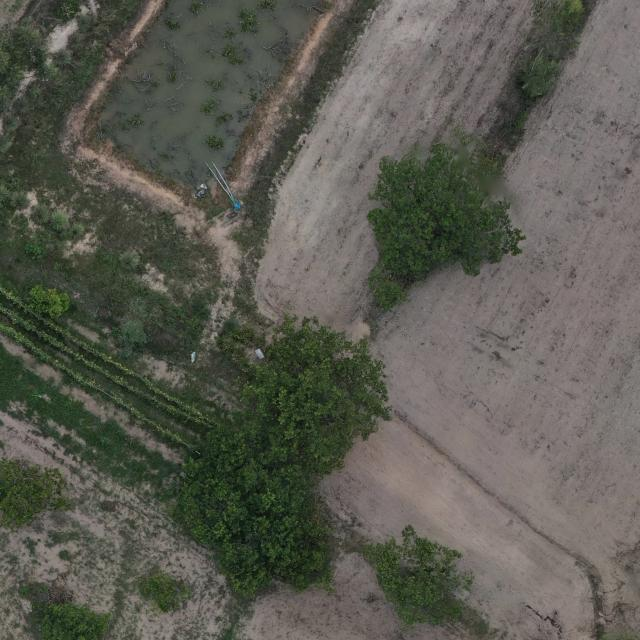Tree: (364, 126, 528, 314), (175, 423, 332, 597), (237, 311, 391, 474), (360, 522, 474, 629), (0, 455, 75, 534), (33, 602, 113, 640), (136, 570, 193, 615), (110, 298, 149, 359), (29, 286, 70, 320)
